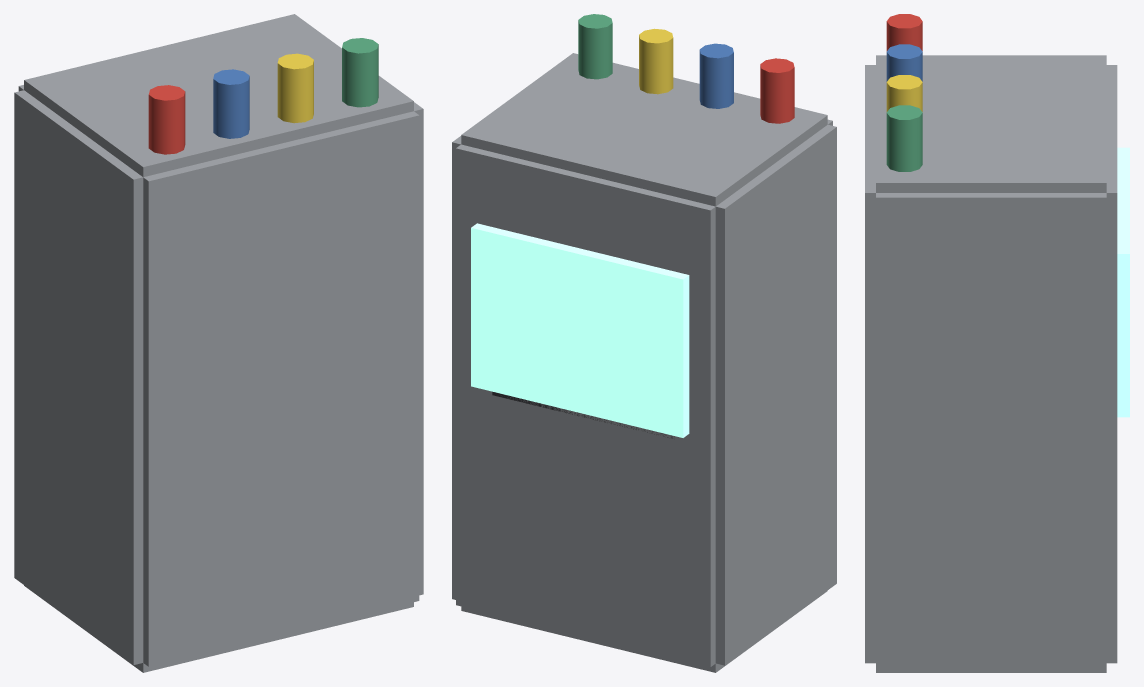
The model's file is paint_mixer.glb.
3 renders of one model, left to right at view 1: azimuth 30°, elevation 25°; view 2: azimuth 150°, elevation 25°; view 3: azimuth 270°, elevation 25°, orthographic. The views are drawn at different scales.
Parts seen in each view (by area): view 1: paint_mixer; view 2: paint_mixer; view 3: paint_mixer.
Part boxes in pixels (bbox=[...]): paint_mixer: bbox=[14, 14, 423, 672]; paint_mixer: bbox=[452, 14, 836, 672]; paint_mixer: bbox=[865, 14, 1129, 672].
Bounding box in the file's own units: 0.9 × 1.66 × 0.735.
